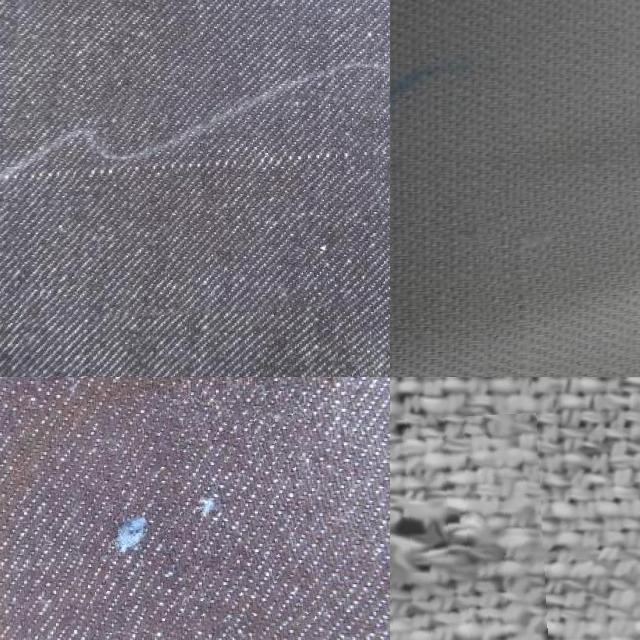other: (390, 416, 544, 640)
stains: (0, 87, 390, 316), (69, 408, 311, 632), (478, 191, 640, 377)
